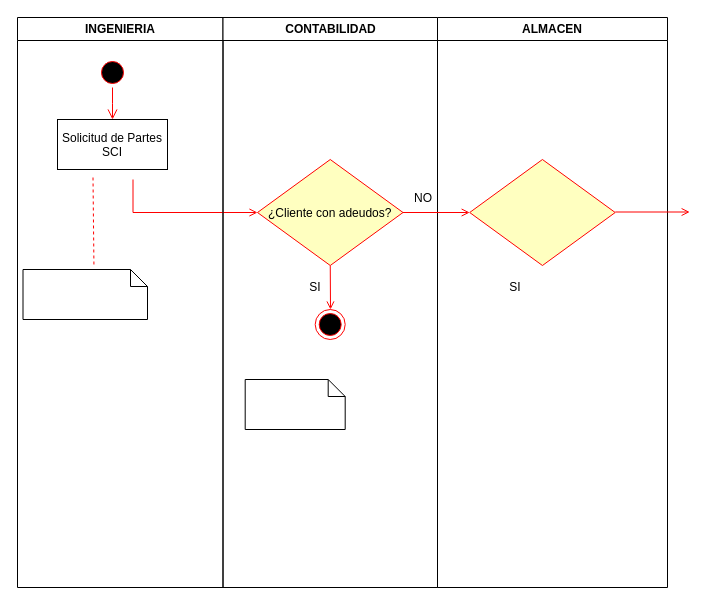
Image size: 716x605. Some labels were removed from this diagram. Each missing label, with the centre of its shape:
"critical section" belongs at [294,404].
"Solo lo autorizado (se comentó en junta)" belongs at [85,294].
"Validar existencia" belongs at [542,212].
